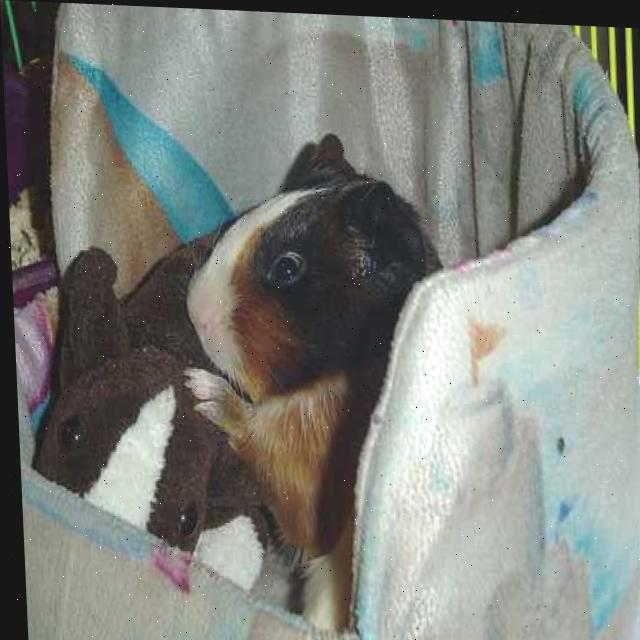guinea pig: (179, 132, 443, 554), (22, 219, 260, 588)
